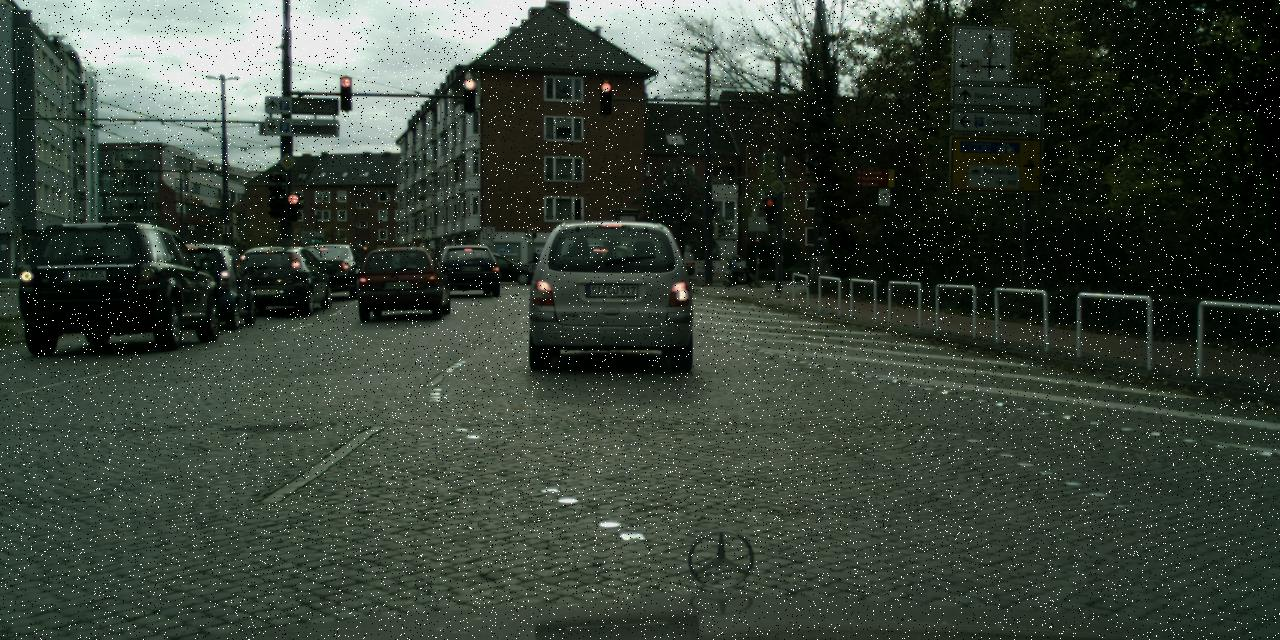ped: (733, 254, 743, 280), (530, 252, 538, 274)
